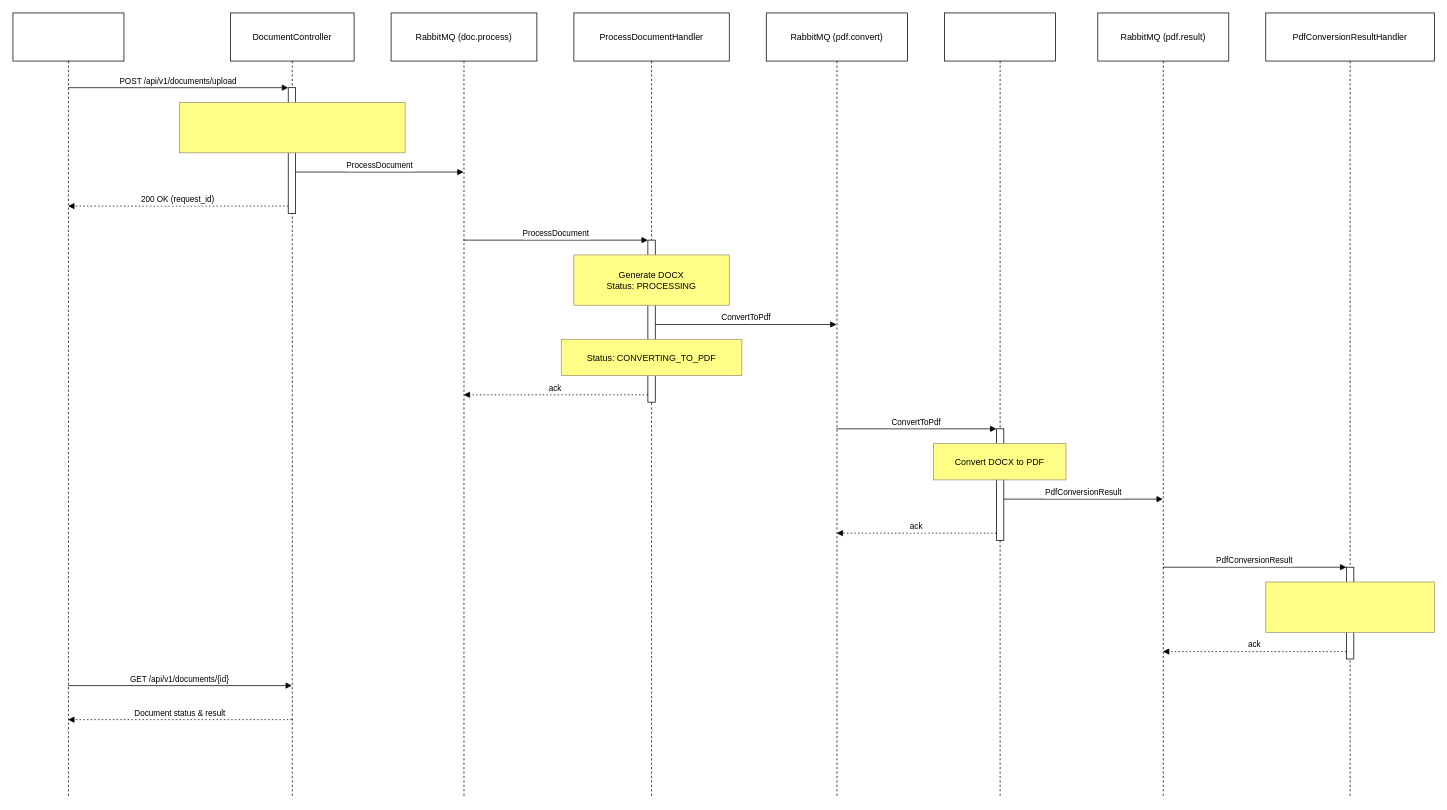
Some shapes in this 1447 by 810 pixel diagram are drawn without their labels. The box of each missing label's shape, as (x1, y1, x2, y2) in pixels:
Client: (12, 12, 124, 797)
Go Service: (944, 12, 1056, 797)
Save template & create IncomeRequest Status: NEW: (179, 102, 405, 153)
Update status: COMPLETED or ERROR: (1265, 581, 1434, 632)
